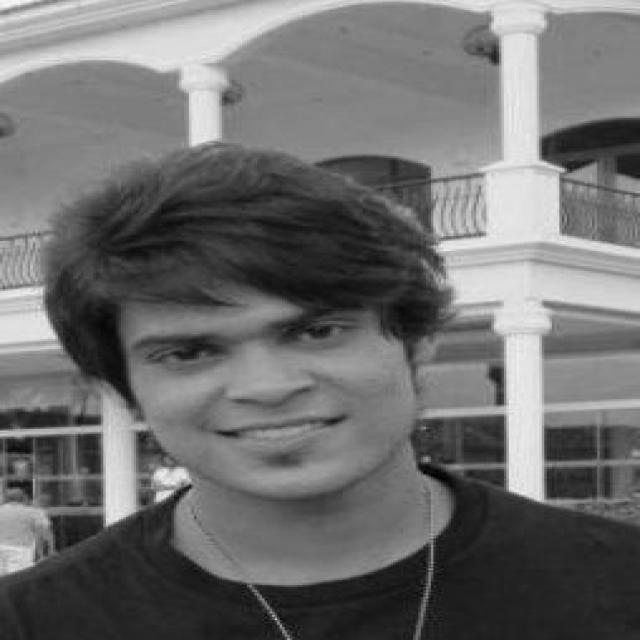real: (43, 152, 446, 516)
